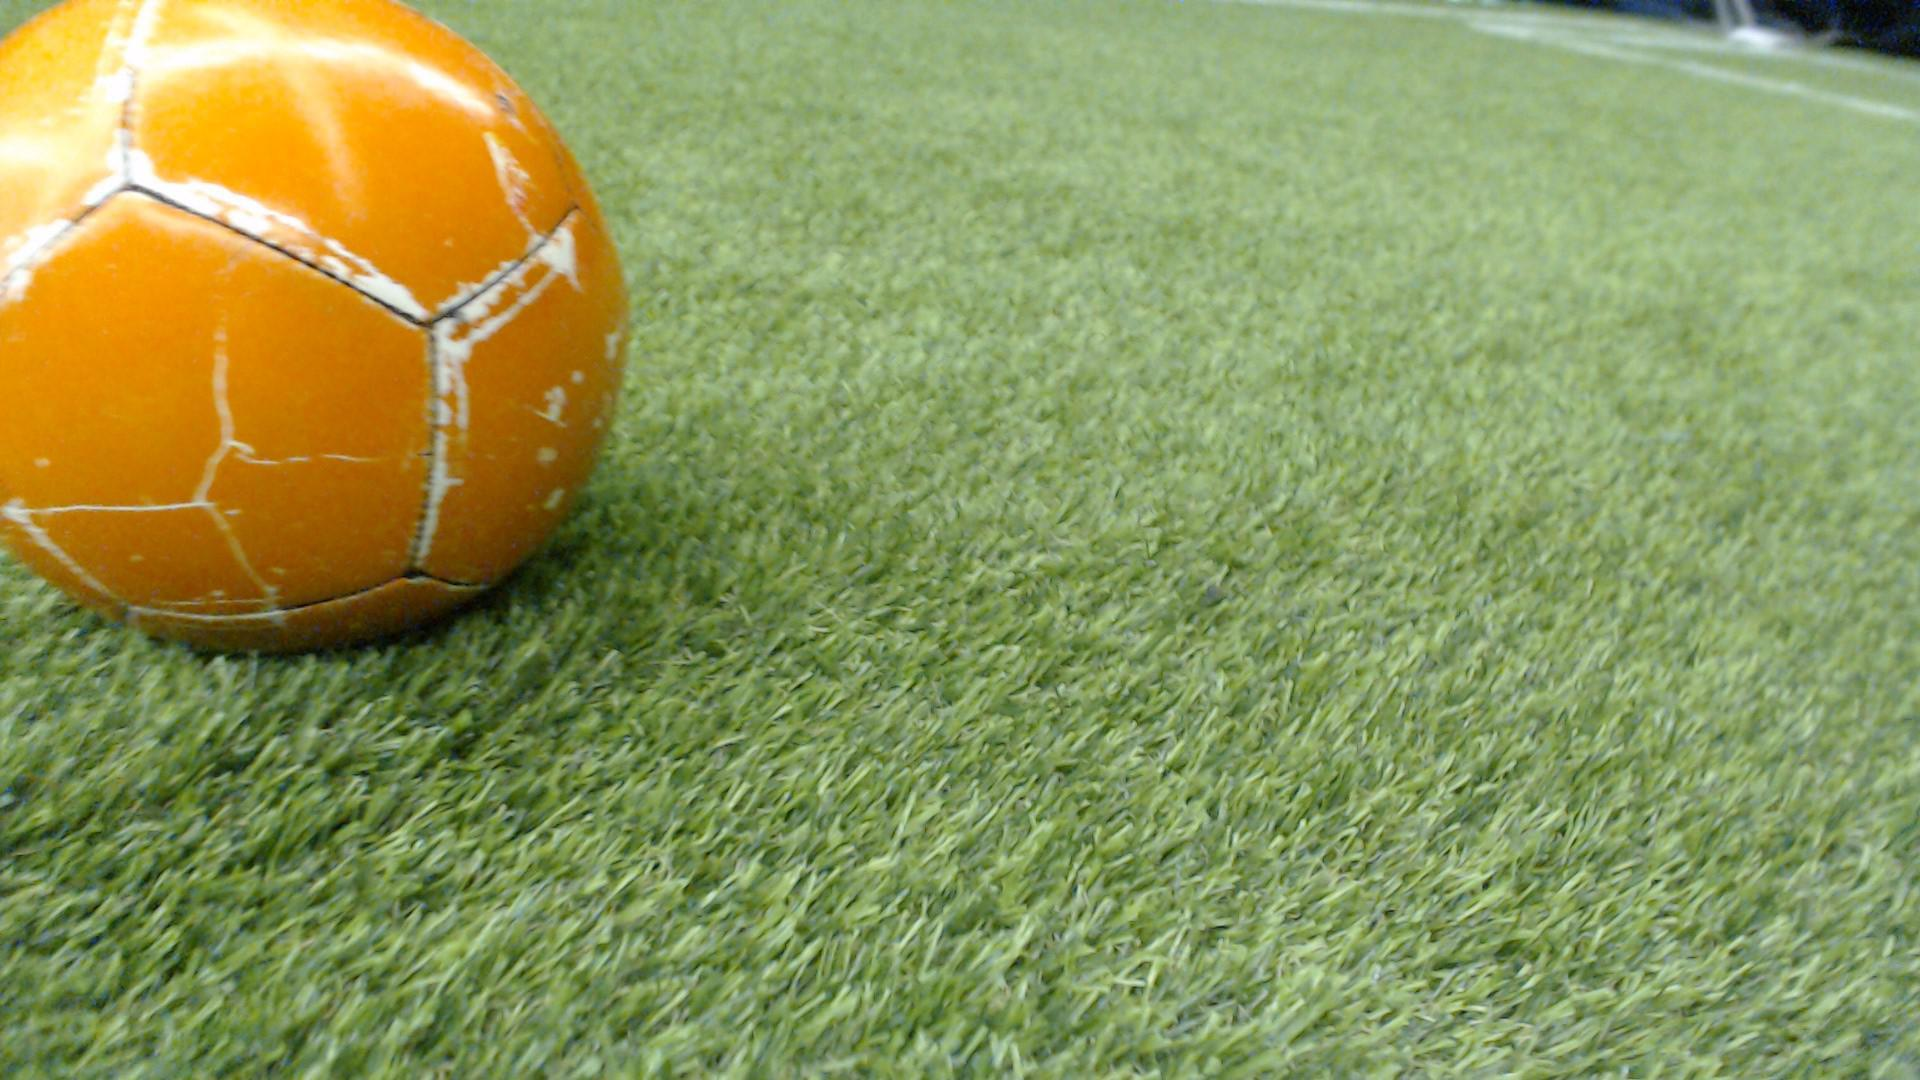bola: (0, 0, 692, 684)
